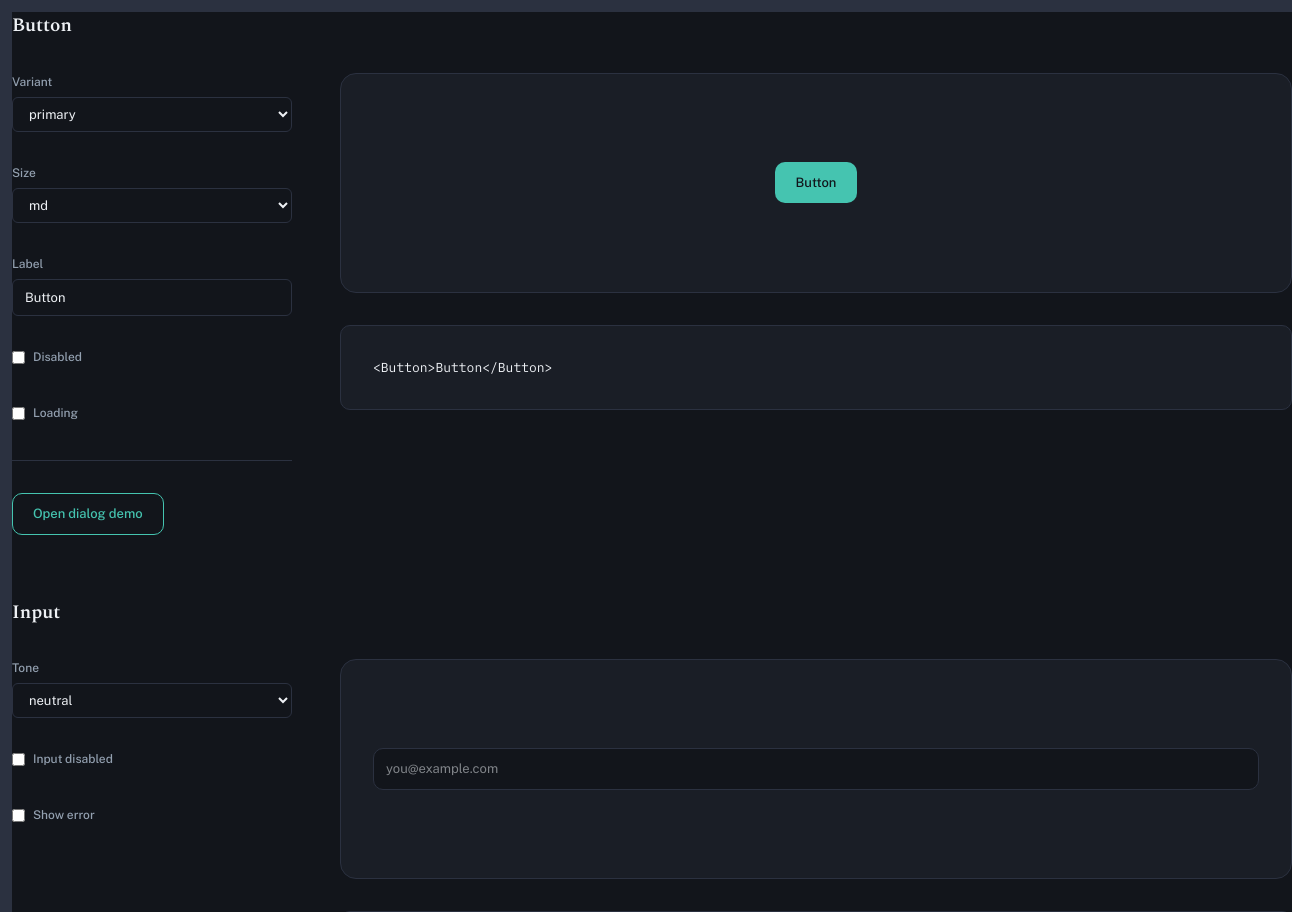
PlaygroundControls › toggles disabled and loading into the generated code
Click the checkbox labelled "Disabled" at (18, 357), box [12,350,25,364]
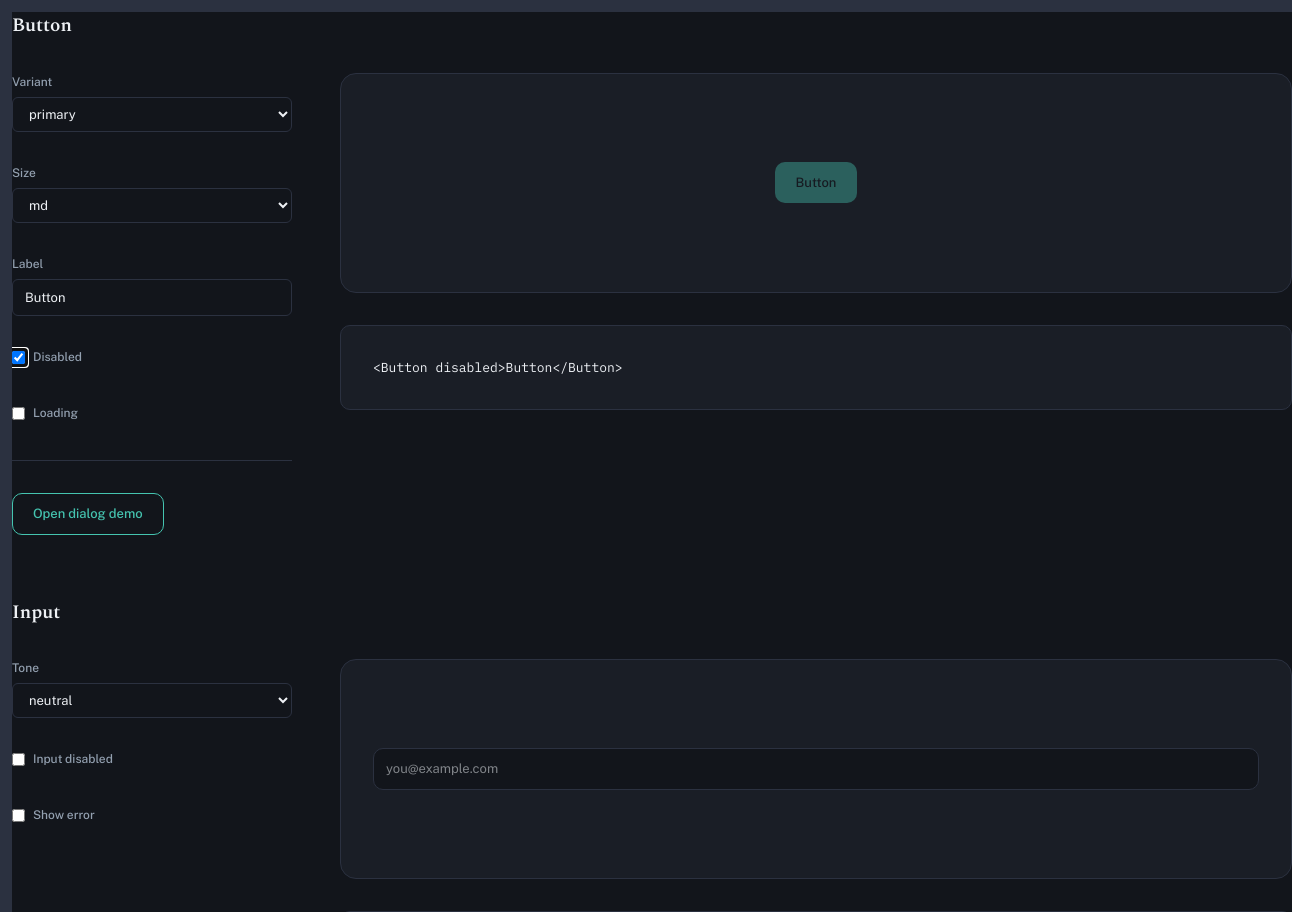
Click the checkbox labelled "Loading" at (18, 413), box [12,406,25,420]
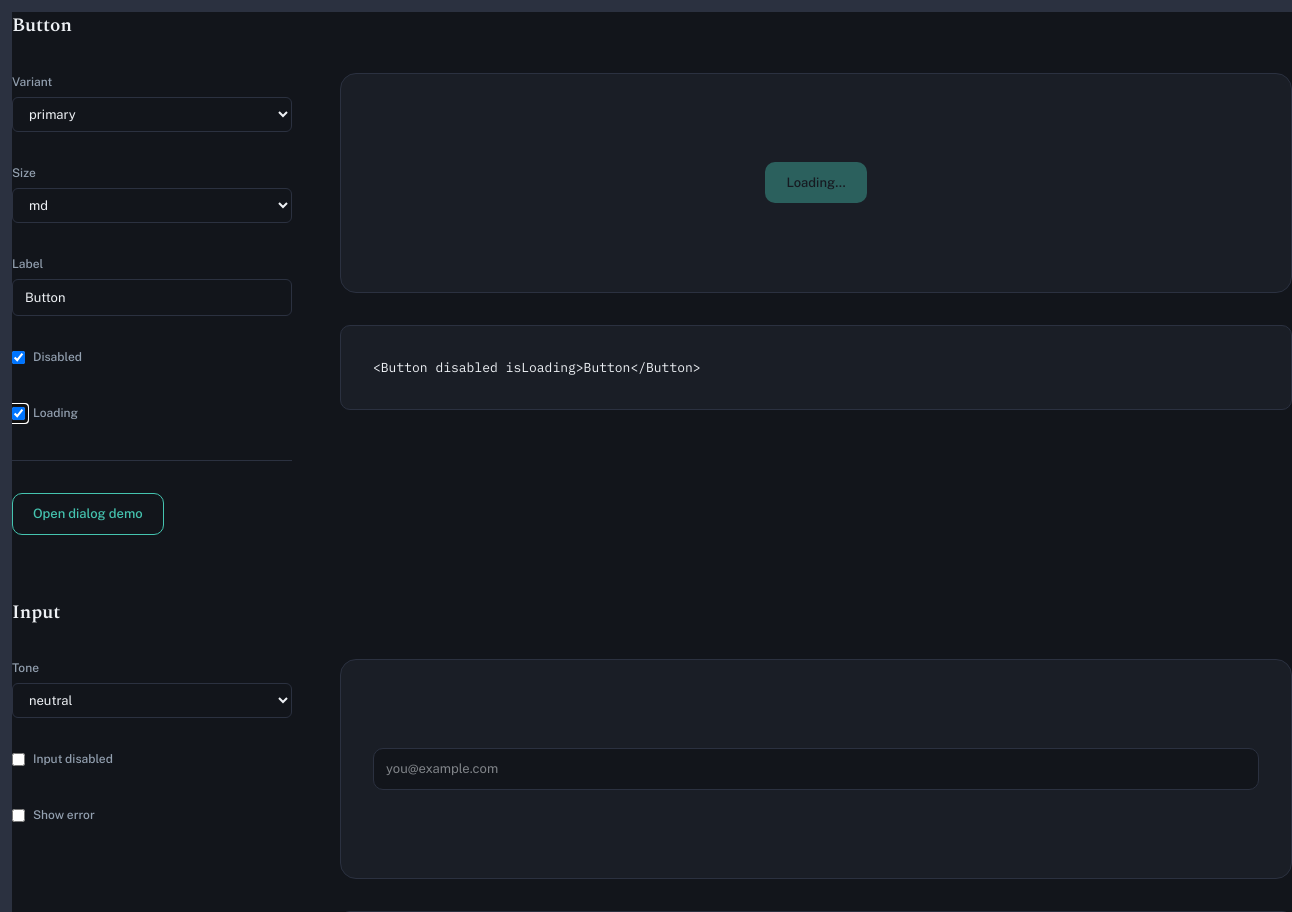
Expected: the text "<Button disabled isLoading>Button</Button>" is shown, [340,324,1291,410]
